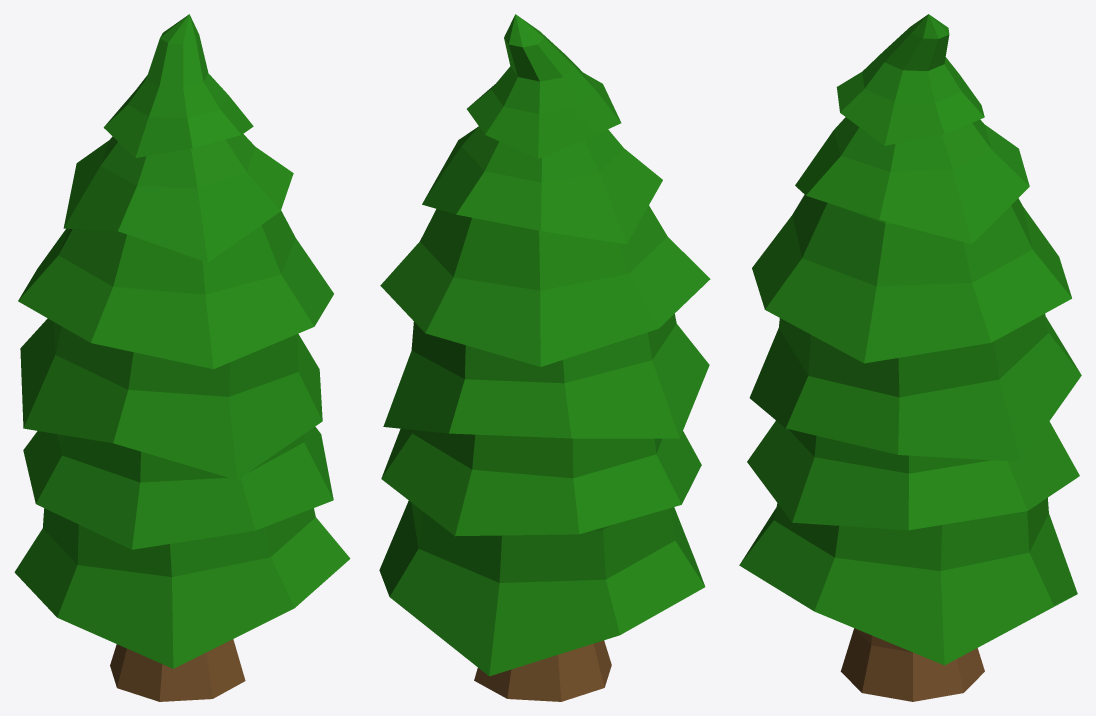
The model's file is tree2.fbx.
3 views of the same model, side by side, from view 1: azimuth 30°, elevation 25°; view 2: azimuth 150°, elevation 25°; view 3: azimuth 270°, elevation 25° (orthographic). The views are drawn at different scales.
Parts seen in each view (by area): view 1: Cylinder.001; view 2: Cylinder.001; view 3: Cylinder.001.
Part boxes in pixels (x1,y1,x2,y2): Cylinder.001: [14, 14, 350, 701]; Cylinder.001: [379, 14, 710, 701]; Cylinder.001: [739, 14, 1081, 701].
Bounding box in the file's own units: 4.77 × 4.75 × 10.2.
